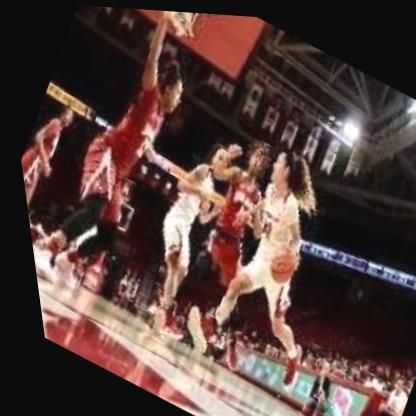basketball: (252, 235, 301, 284)
